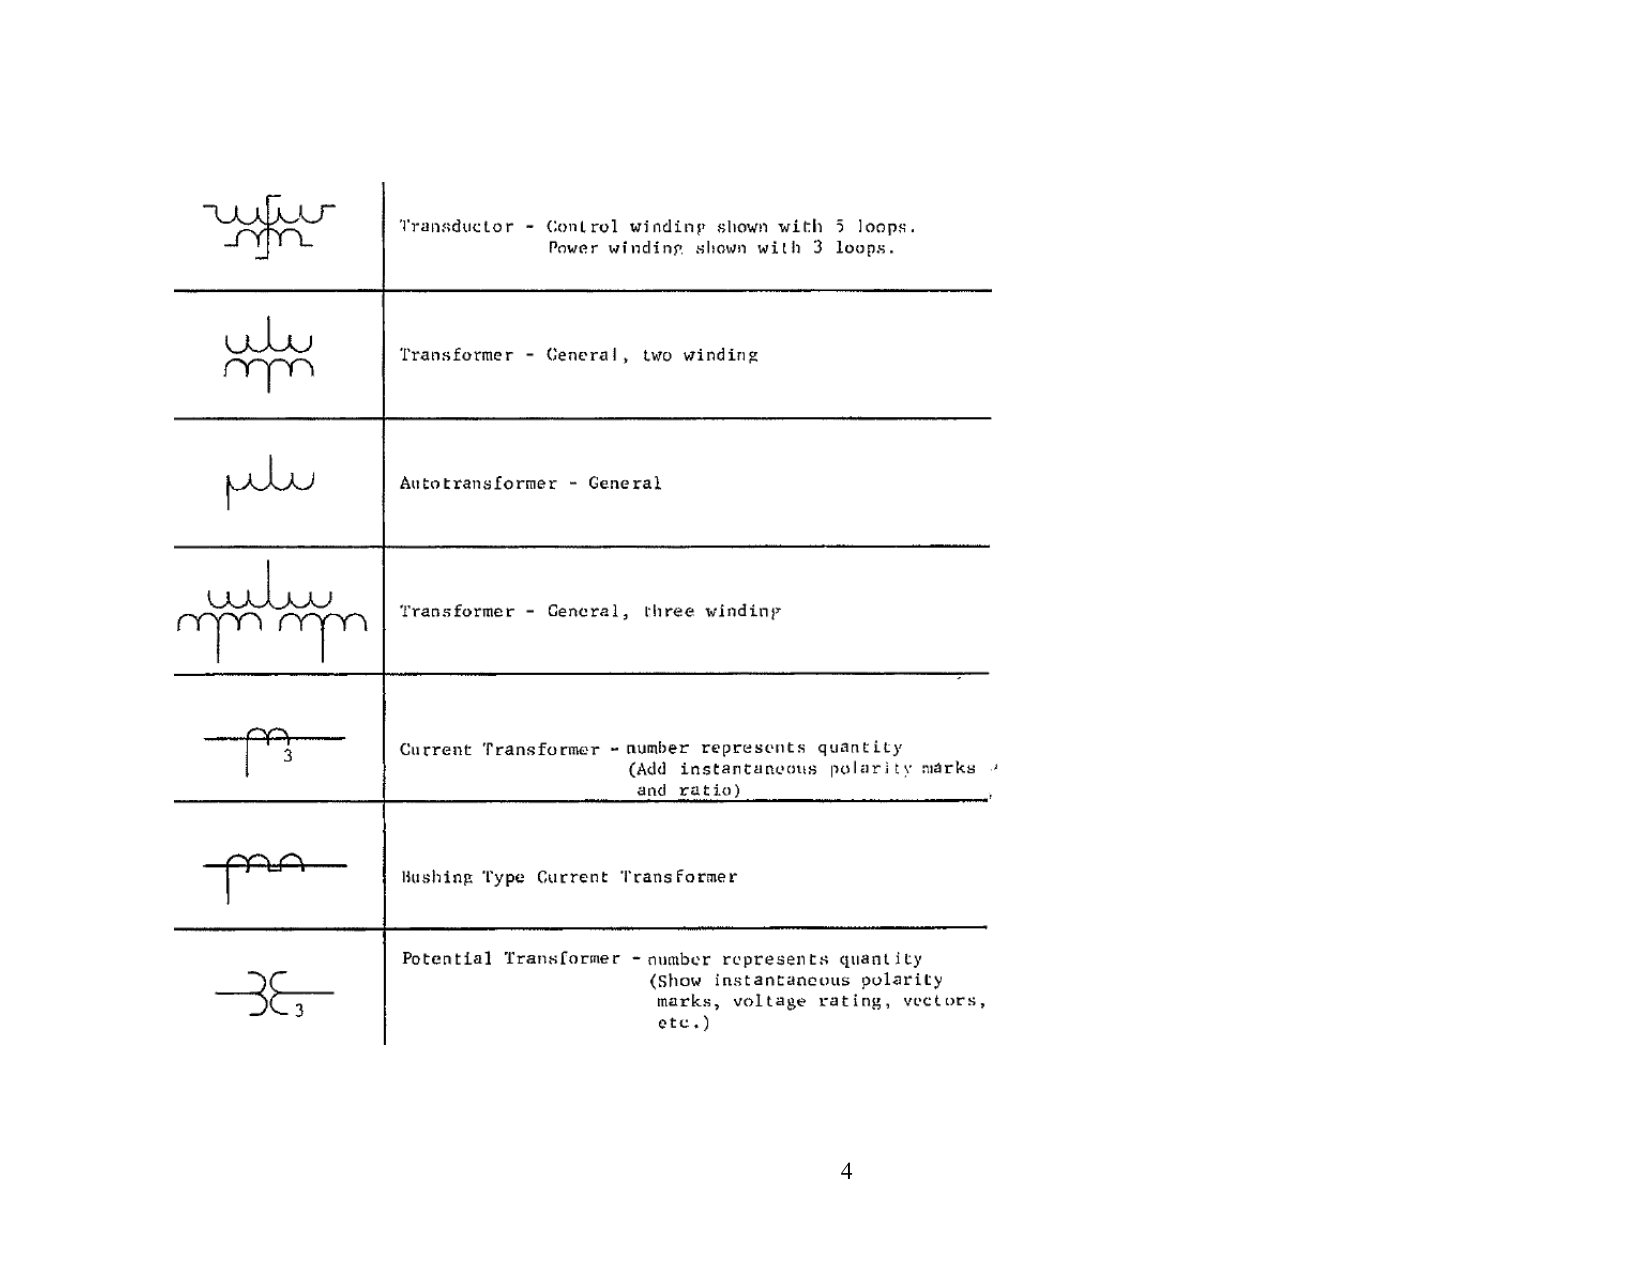transformer: (130, 571, 378, 664), (177, 443, 348, 525), (169, 187, 356, 261), (182, 959, 372, 1031), (193, 311, 337, 396), (174, 830, 350, 897), (142, 726, 359, 774)
